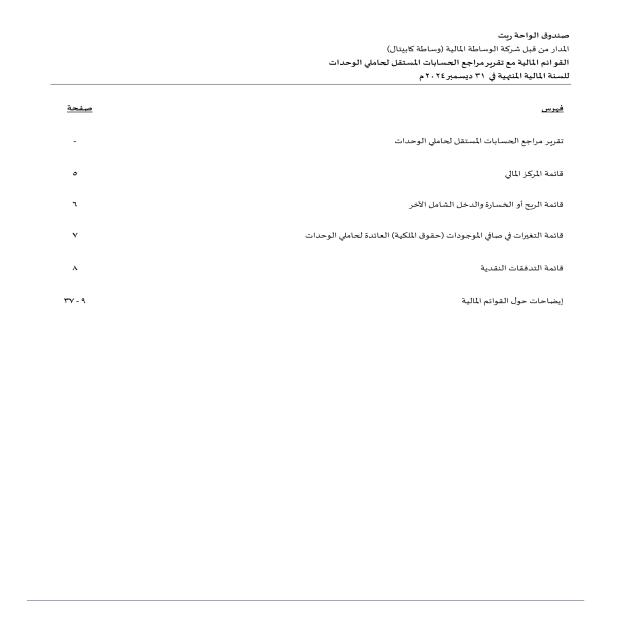other: (41, 81, 568, 342)
